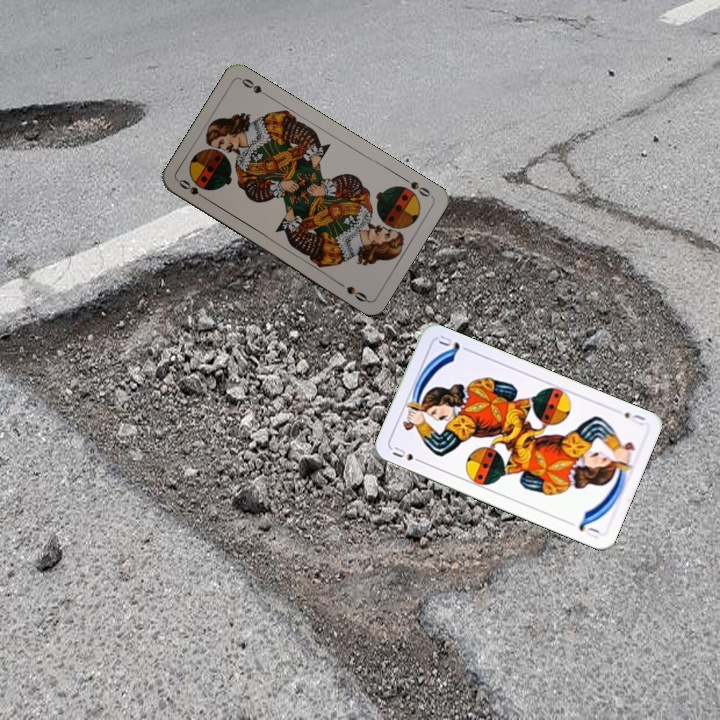SO: (175, 175, 211, 203), (398, 173, 435, 200)
SU: (388, 442, 427, 466), (620, 408, 648, 428)
